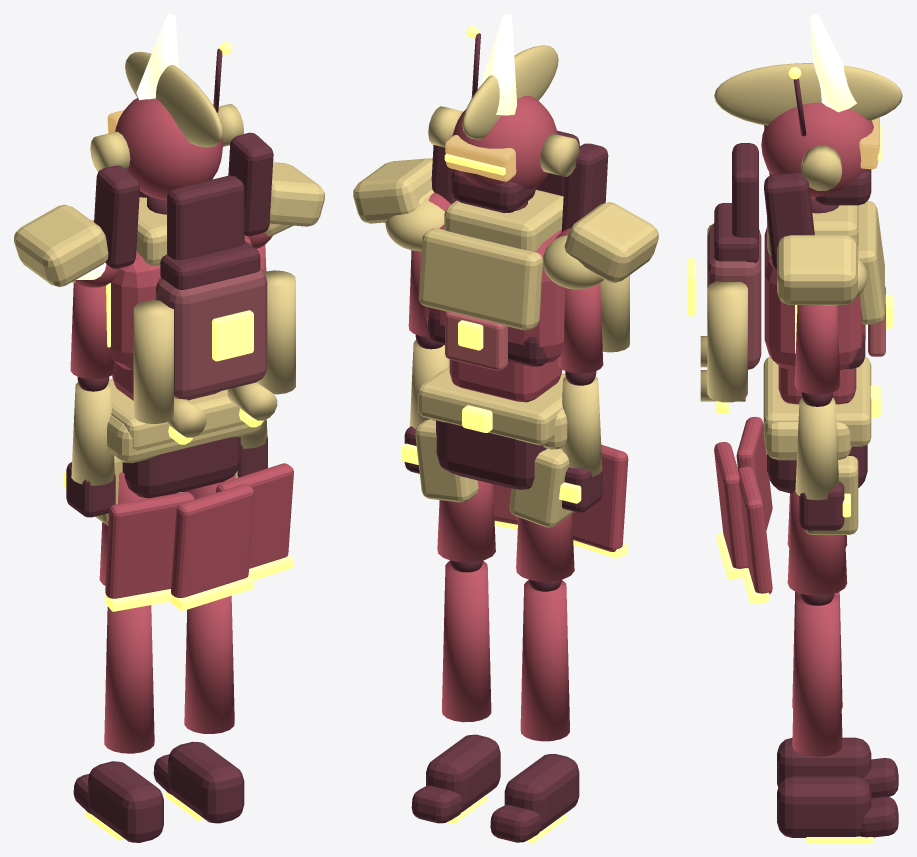
The model's file is skin_valkyrie.glb.
The picture shows the model from 3 angles, left to right: view 1: azimuth 30°, elevation 25°; view 2: azimuth 150°, elevation 25°; view 3: azimuth 270°, elevation 25°; orthographic projection.
Parts seen in each view (by area): view 1: Backpack, SkirtBack, LeftShin, SkirtL, Helmet, RightShin, HairBack, LeftPauldron, TankL, RightBoot, LeftBoot, Hips (+26 smaller); view 2: ChestPlate, LeftShin, RightShin, Belt, LeftPauldron, Hips, Collar, Helmet, RightPauldron, RightLeg, LeftBoot, RightBoot (+29 smaller); view 3: RightShin, HelmetCrest, Helmet, RightPauldron, RightBoot, TankR, Torso, RightLeg, RightArm, RightForearm, Belt, HairR (+25 smaller).
Part boxes in pixels (<box>): Backpack: <box>155,269,267,399</box>; SkirtBack: <box>171,484,254,597</box>; LeftShin: <box>104,605,154,753</box>; SkirtL: <box>105,491,194,598</box>; Helmet: <box>115,98,222,200</box>; RightShin: <box>184,595,234,733</box>; HairBack: <box>167,175,244,260</box>; LeftPauldron: <box>14,204,108,286</box>; TankL: <box>133,300,173,423</box>; RightBoot: <box>168,741,244,823</box>; LeftBoot: <box>88,761,163,842</box>; Hips: <box>122,437,240,498</box>; ChestPlate: <box>418,228,543,330</box>; LeftShin: <box>520,580,569,741</box>; RightShin: <box>442,561,491,722</box>; Belt: <box>417,366,565,445</box>; LeftPauldron: <box>564,202,658,282</box>; Hips: <box>436,420,546,489</box>; Collar: <box>444,189,563,251</box>; Helmet: <box>452,95,557,189</box>; RightPauldron: <box>353,158,432,223</box>; RightLeg: <box>437,480,495,562</box>; LeftBoot: <box>504,754,579,831</box>; RightBoot: <box>426,734,500,811</box>; RightShin: <box>792,594,842,756</box>; HelmetCrest: <box>714,63,902,125</box>; Helmet: <box>761,102,873,198</box>; RightPauldron: <box>777,235,857,304</box>; RightBoot: <box>777,776,871,837</box>; TankR: <box>707,281,747,402</box>; Torso: <box>764,227,865,371</box>; RightLeg: <box>787,490,847,595</box>; RightArm: <box>794,305,840,394</box>; RightForearm: <box>795,397,838,500</box>; Belt: <box>763,356,871,446</box>; HairR: <box>764,172,814,269</box>.
Size of the model in its own units: 0.7135 by 1.97 by 0.48.
